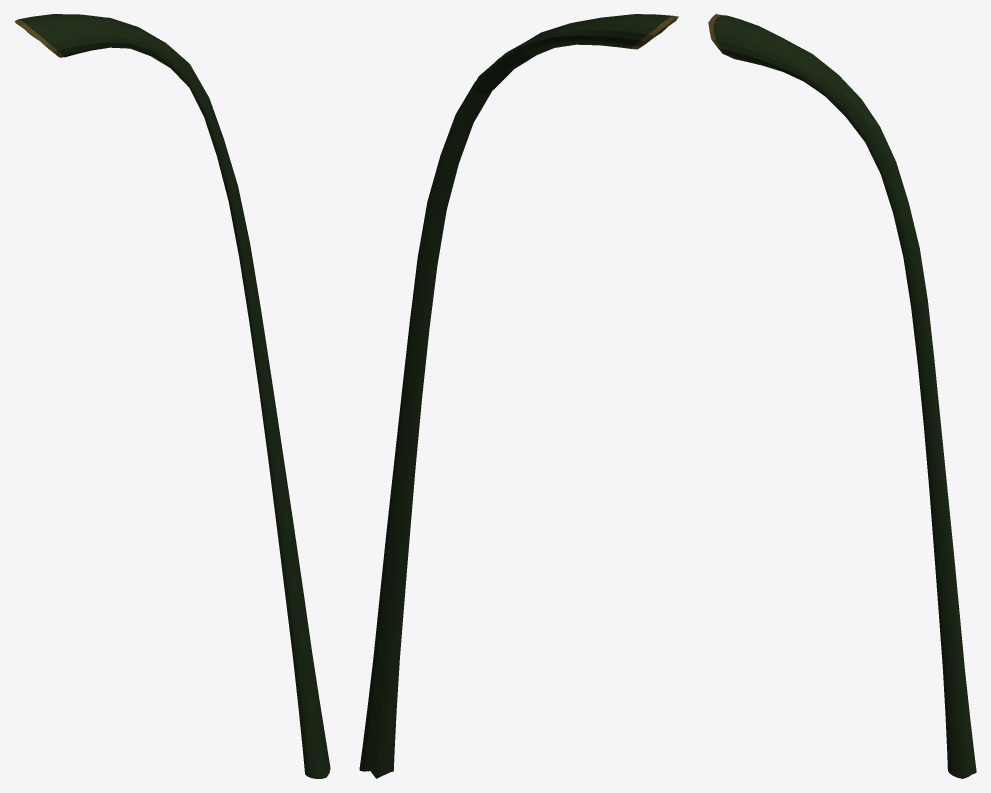
3 renders of one model, left to right at view 1: azimuth 30°, elevation 25°; view 2: azimuth 150°, elevation 25°; view 3: azimuth 330°, elevation 25°, orthographic. The views are drawn at different scales.
Visible parts, largest first — view 1: Stem.002; view 2: Stem.002; view 3: Stem.002.
Part boxes in pixels (x1,y1,x2,y2): Stem.002: (14,14,330,778); Stem.002: (359,14,678,778); Stem.002: (708,14,976,778).
Size of the model in its own units: 160 by 403 by 26.12.
